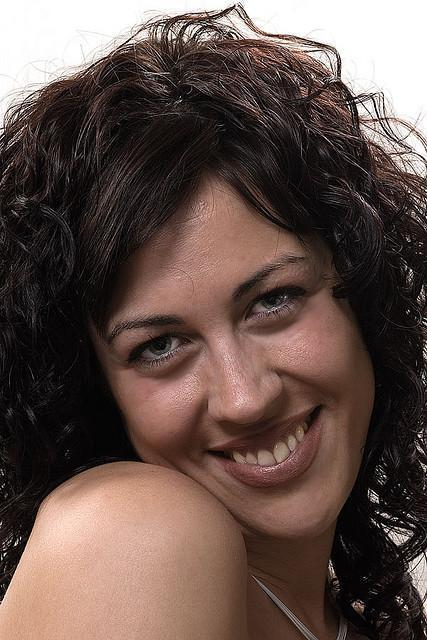Eyebags: (236, 299, 312, 341), (131, 343, 203, 386)
